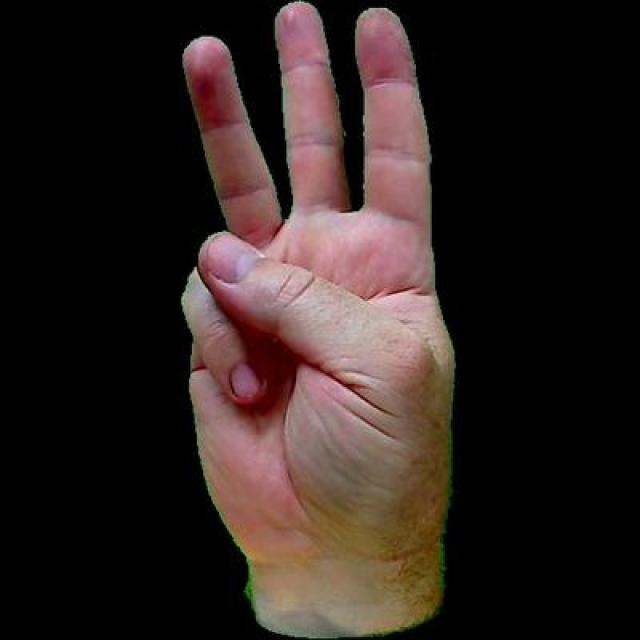w: (174, 0, 460, 637)
